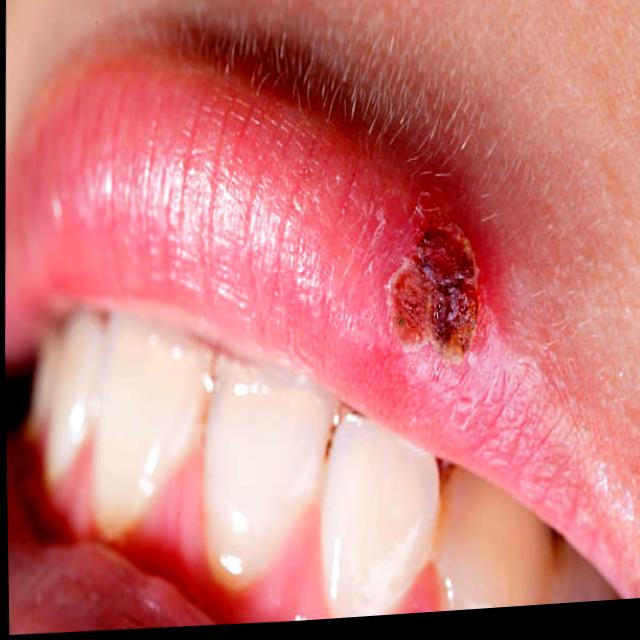ulcer: (391, 206, 477, 360)
